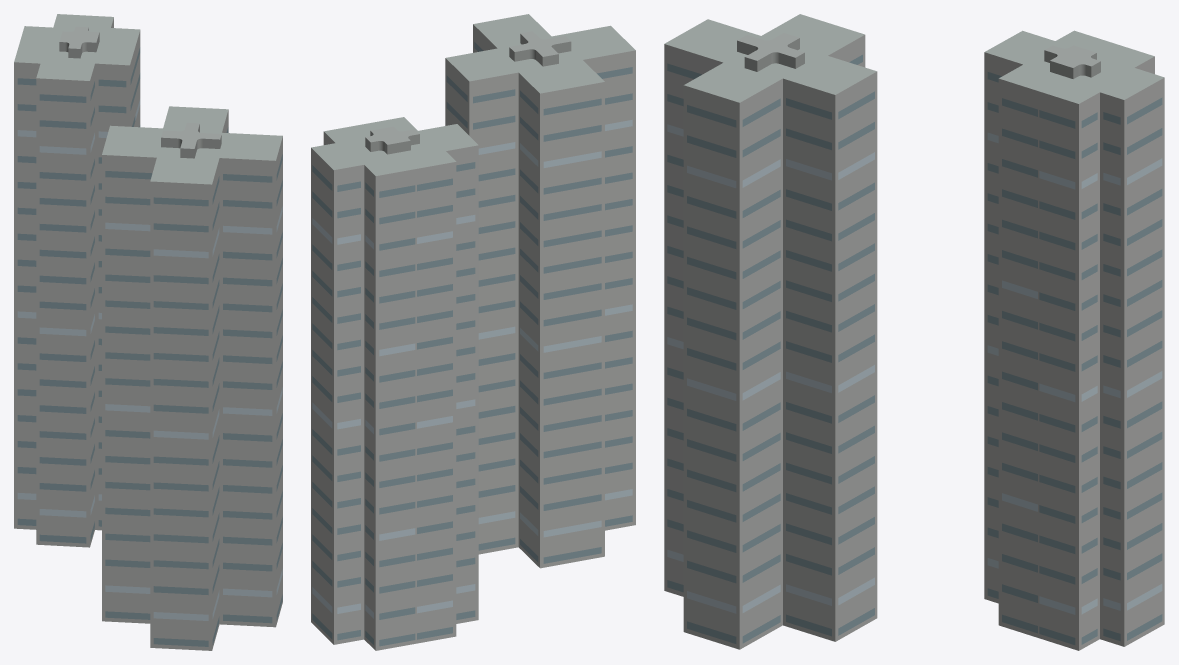
File: apt-a10026719.glb
The picture shows the model from 3 angles, left to right: view 1: azimuth 30°, elevation 25°; view 2: azimuth 150°, elevation 25°; view 3: azimuth 270°, elevation 25°; orthographic projection. The views are drawn at different scales.
Visible parts, largest first — view 1: apt-a10026719; view 2: apt-a10026719; view 3: apt-a10026719.
Part boxes in pixels (box(x1,y1,x2,y2)): apt-a10026719: box(14, 14, 282, 650); apt-a10026719: box(311, 14, 635, 650); apt-a10026719: box(664, 14, 1164, 650).
Size of the model in its own units: 41.55 by 120 by 97.56.
